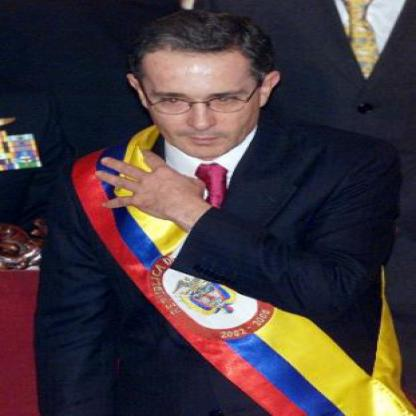face: (148, 31, 261, 160)
